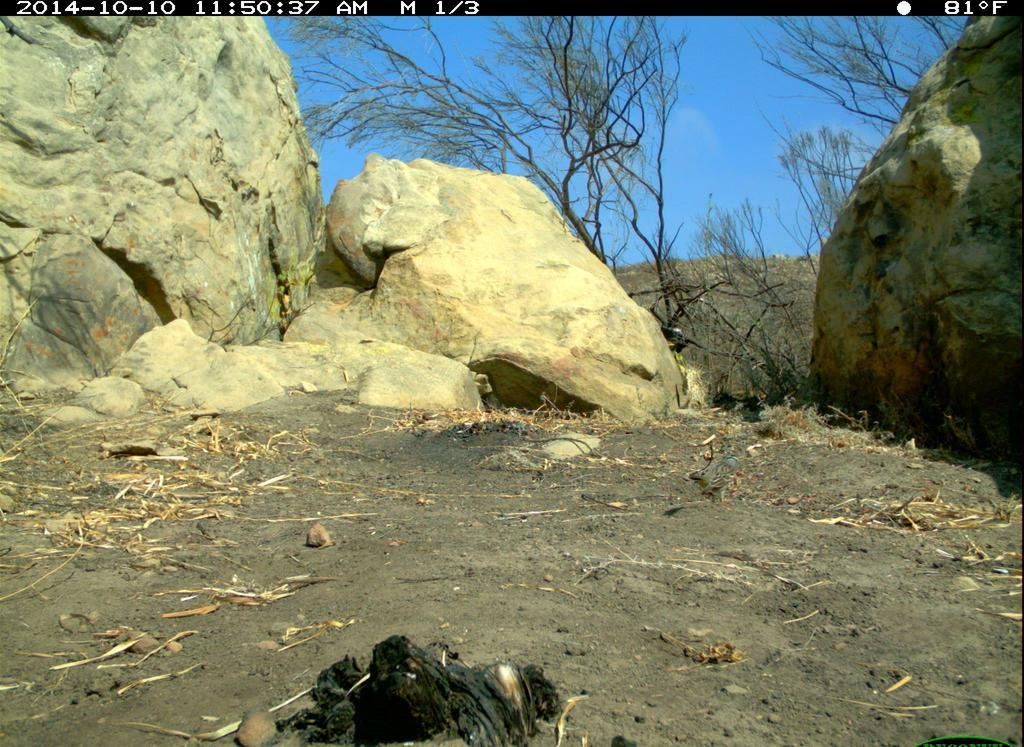bird: (680, 428, 757, 511)
